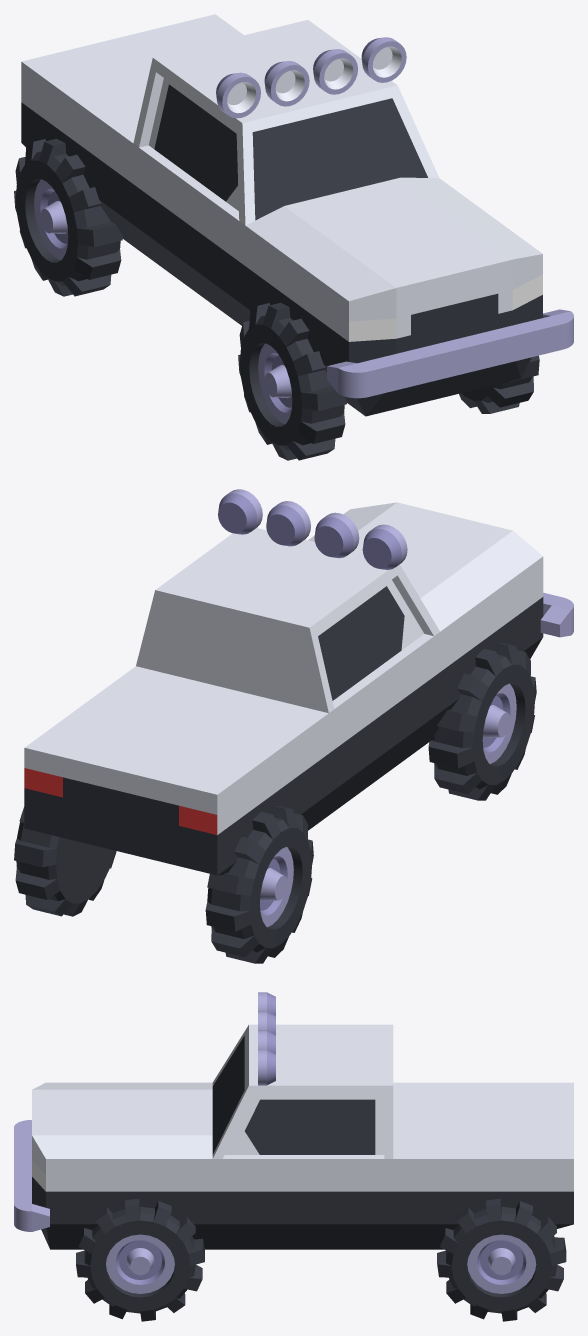
File: moltron.fbx
3 renders of one model, top to bottom at view 1: azimuth 30°, elevation 25°; view 2: azimuth 150°, elevation 25°; view 3: azimuth 270°, elevation 25°, orthographic. The views are drawn at different scales.
Visible parts, largest first — view 1: body_frontSUV, body_topSteep, wheel_ridges (×3), body_backSolid, body_standard, bumper, detail_lightRow%; view 2: body_backSolid, body_topSteep, wheel_ridges (×3), body_frontSUV, body_standard, detail_lightRow%, bumper; view 3: body_backSolid, body_frontSUV, wheel_ridges (×2), body_topSteep, body_standard, bumper, detail_lightRow%.
Boxes of the visible parts, x1,y1,x2,y2 form: body_frontSUV: (245,177,542,416); body_topSteep: (133,20,439,225); wheel_ridges (×3): (14,138,539,460); body_backSolid: (21,14,243,260); body_standard: (133,144,249,325); bumper: (327,309,573,398); detail_lightRow%: (216,37,406,118); body_backSolid: (24,666,328,875); body_topSteep: (136,528,439,713); wheel_ridges (×3): (14,642,536,963); body_frontSUV: (308,502,543,747); body_standard: (310,632,440,828); detail_lightRow%: (218,489,407,569); bumper: (540,592,573,637); body_backSolid: (393,1082,573,1249); body_frontSUV: (32,1082,212,1249); wheel_ridges (×2): (76,1198,566,1321); body_topSteep: (212,1024,393,1158); body_standard: (212,1155,393,1249); bumper: (14,1120,49,1231); detail_lightRow%: (258,992,275,1085).
Size of the model in its own units: 12.16 by 15.58 by 31.
